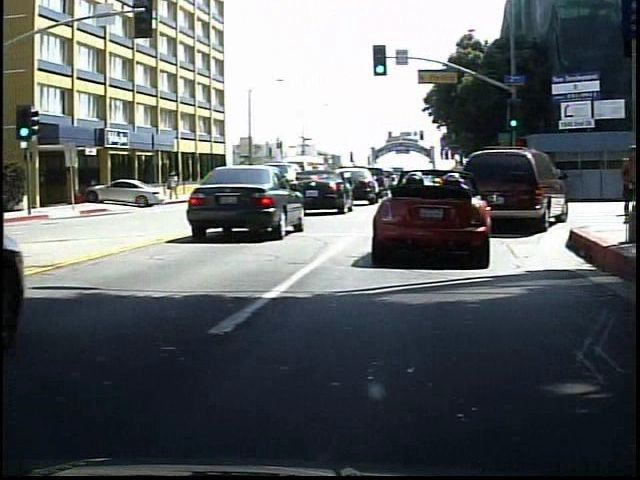person: (163, 170, 177, 202)
